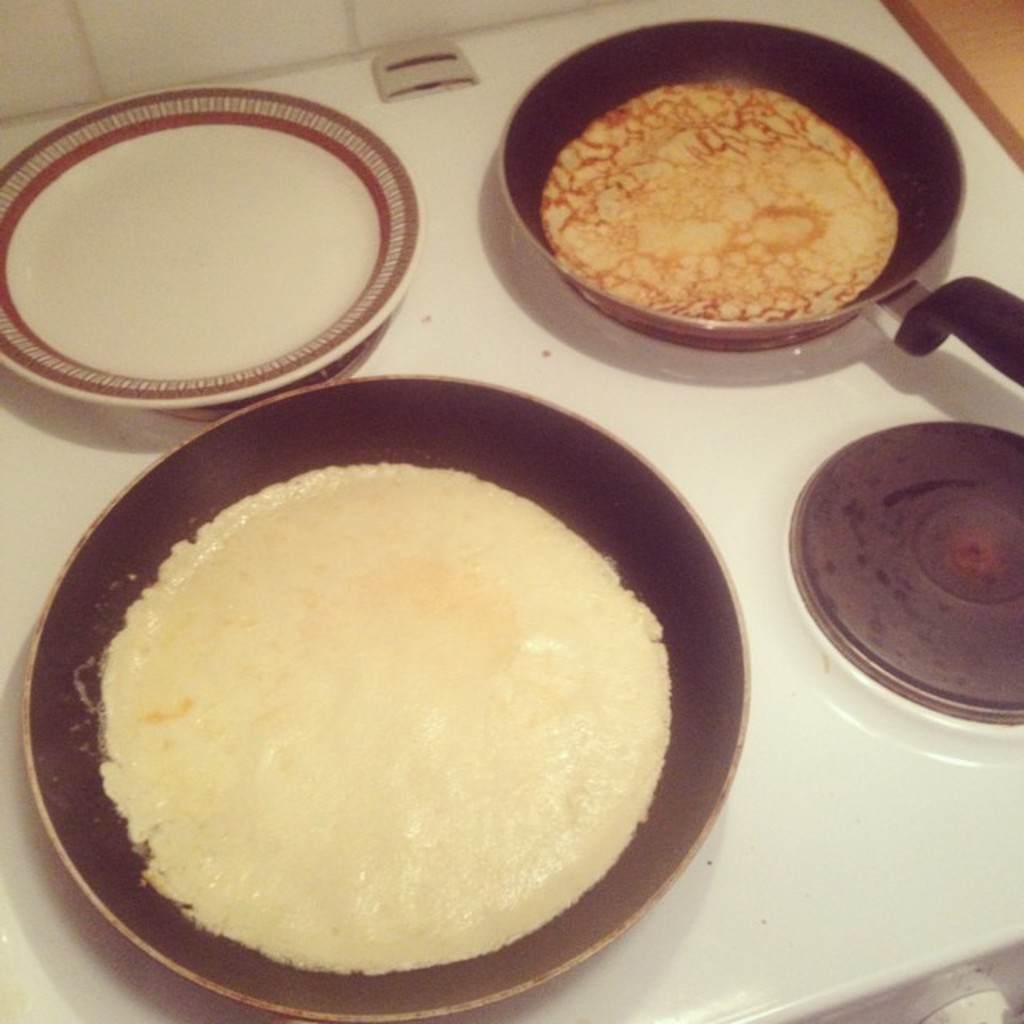plate: (4, 94, 432, 409)
